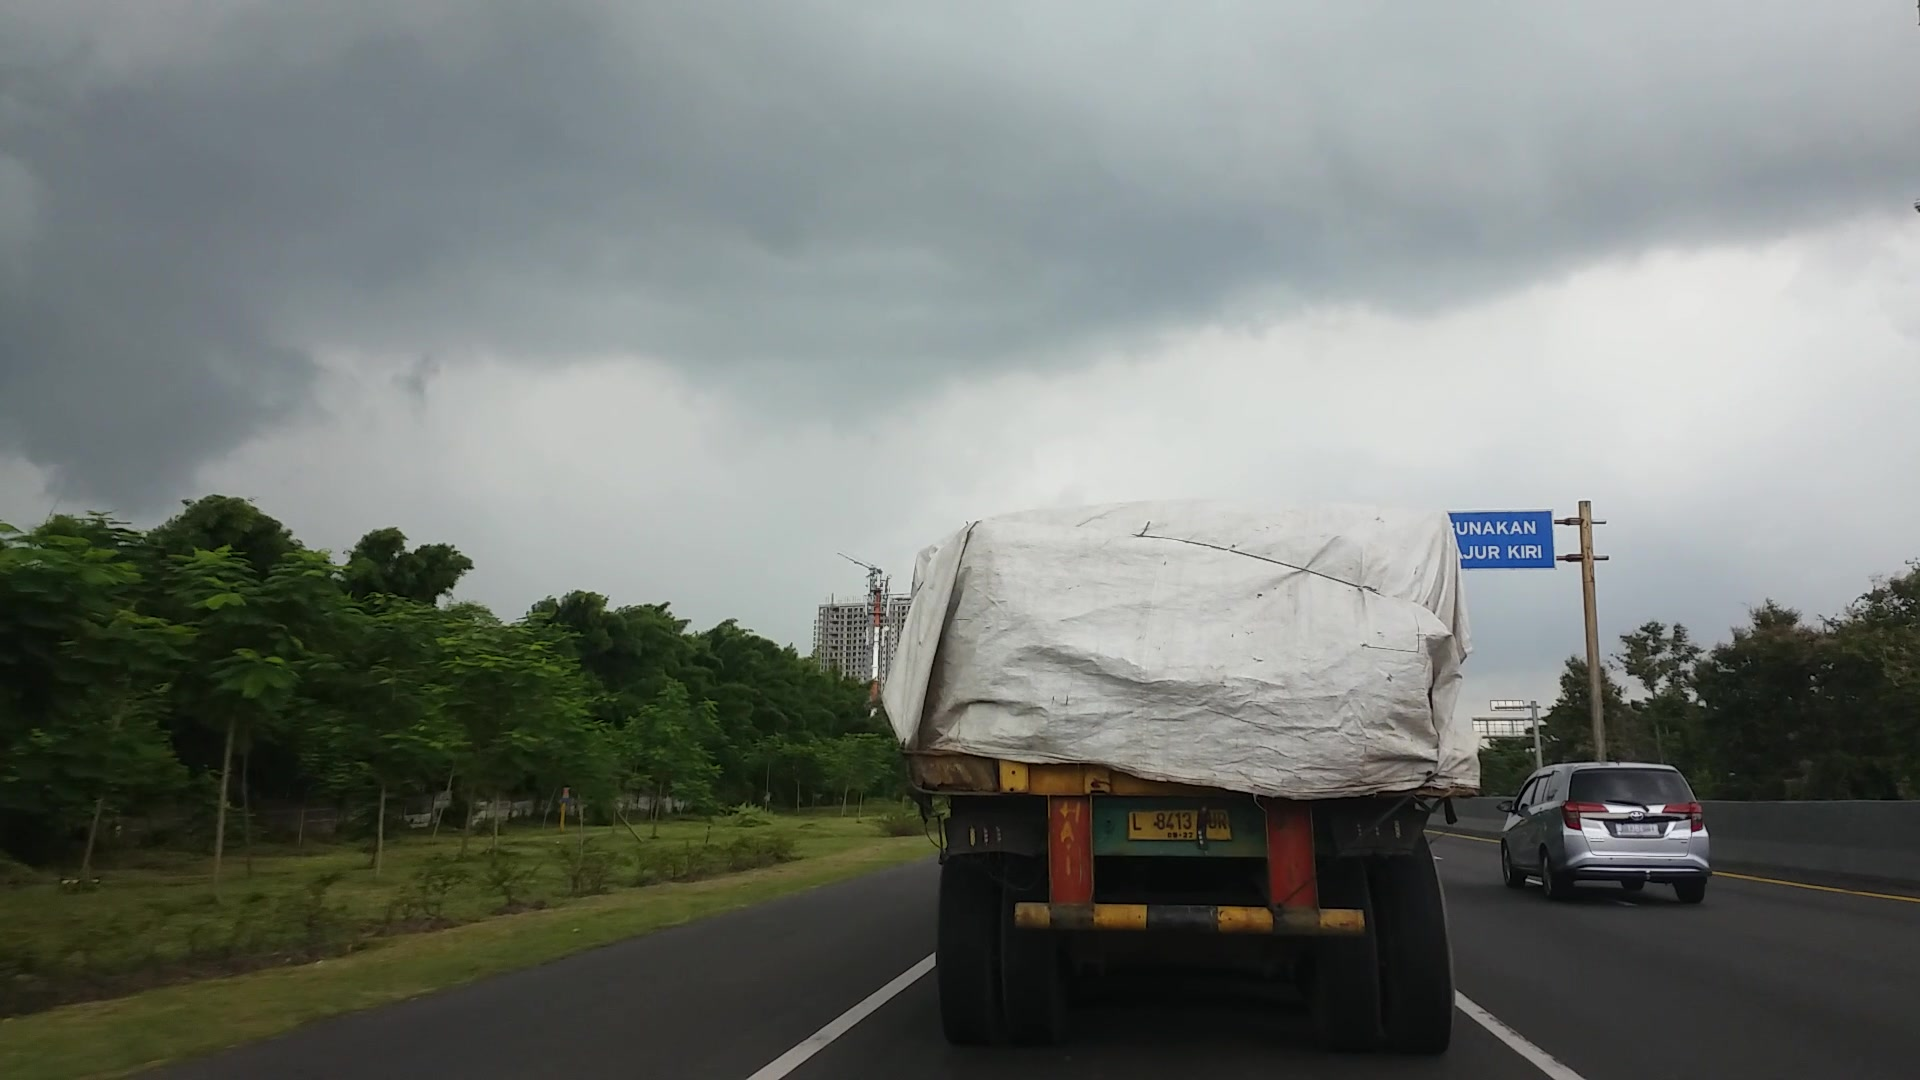plate_positive: (1127, 807, 1232, 841)
